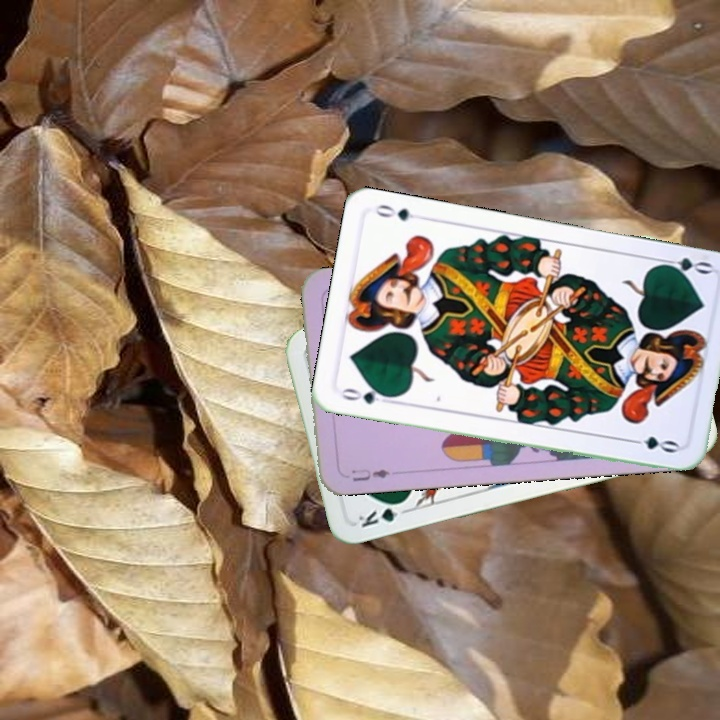EU: (348, 465, 392, 484)
GK: (354, 497, 412, 530)
GO: (654, 253, 714, 279), (337, 383, 396, 407)
